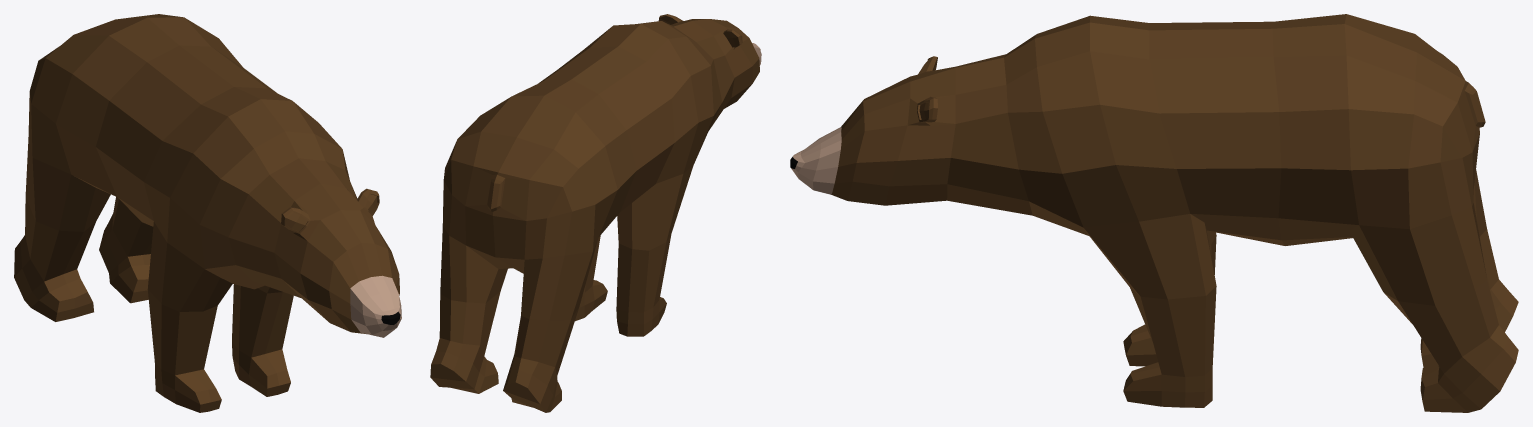
File: 08bearFinal.fbx
3 views of the same model, side by side, from view 1: azimuth 30°, elevation 25°; view 2: azimuth 150°, elevation 25°; view 3: azimuth 270°, elevation 25° (orthographic). The views are drawn at different scales.
Parts seen in each view (by area): view 1: 08bearFinal; view 2: 08bearFinal; view 3: 08bearFinal.
Boxes of the visible parts, <box> form: 08bearFinal: <box>14,14,401,412</box>; 08bearFinal: <box>430,14,761,412</box>; 08bearFinal: <box>790,14,1518,412</box>.
Bounding box in the file's own units: 112 × 191 × 352.
